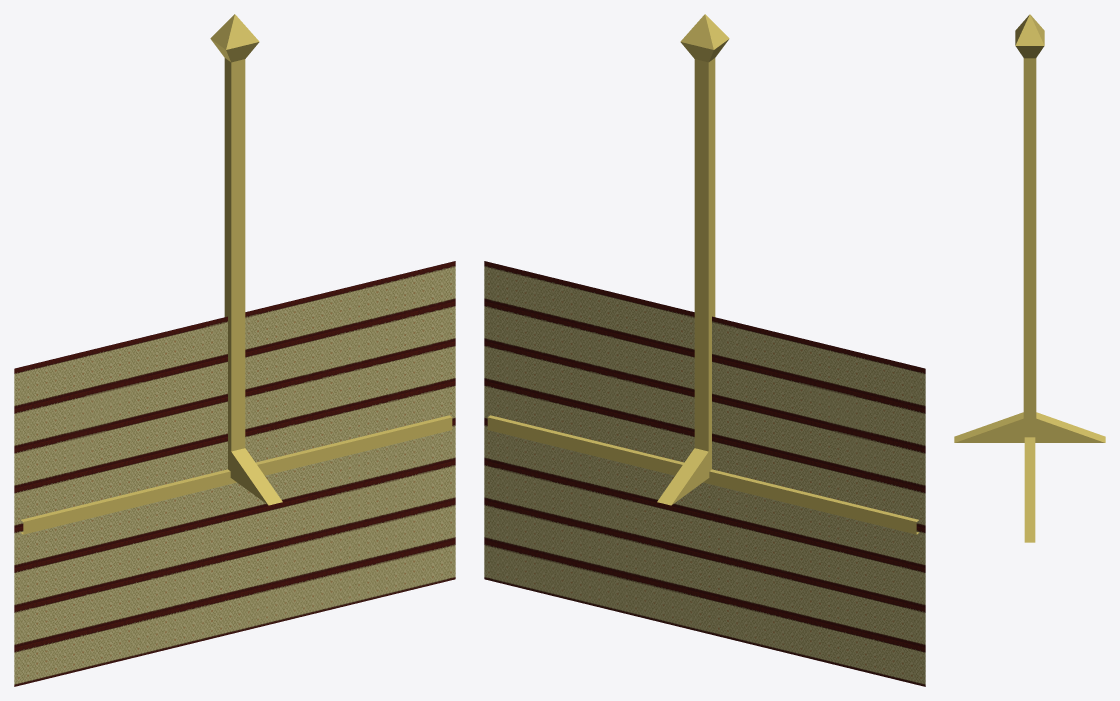
The model's file is 4411wall_r.gltf.
The picture shows the model from 3 angles, left to right: view 1: azimuth 30°, elevation 25°; view 2: azimuth 150°, elevation 25°; view 3: azimuth 270°, elevation 25°; orthographic projection. The views are drawn at different scales.
Visible parts, largest first — view 1: 4411wall_r; view 2: 4411wall_r; view 3: 4411wall_r.
Part boxes in pixels (left/top/right/bottom): 4411wall_r: left=14, top=14, right=455, bottom=686; 4411wall_r: left=484, top=14, right=925, bottom=686; 4411wall_r: left=954, top=14, right=1105, bottom=542.
Size of the model in its own units: 1.83 by 2.45 by 0.5869.
2 materials, 1 textured.
